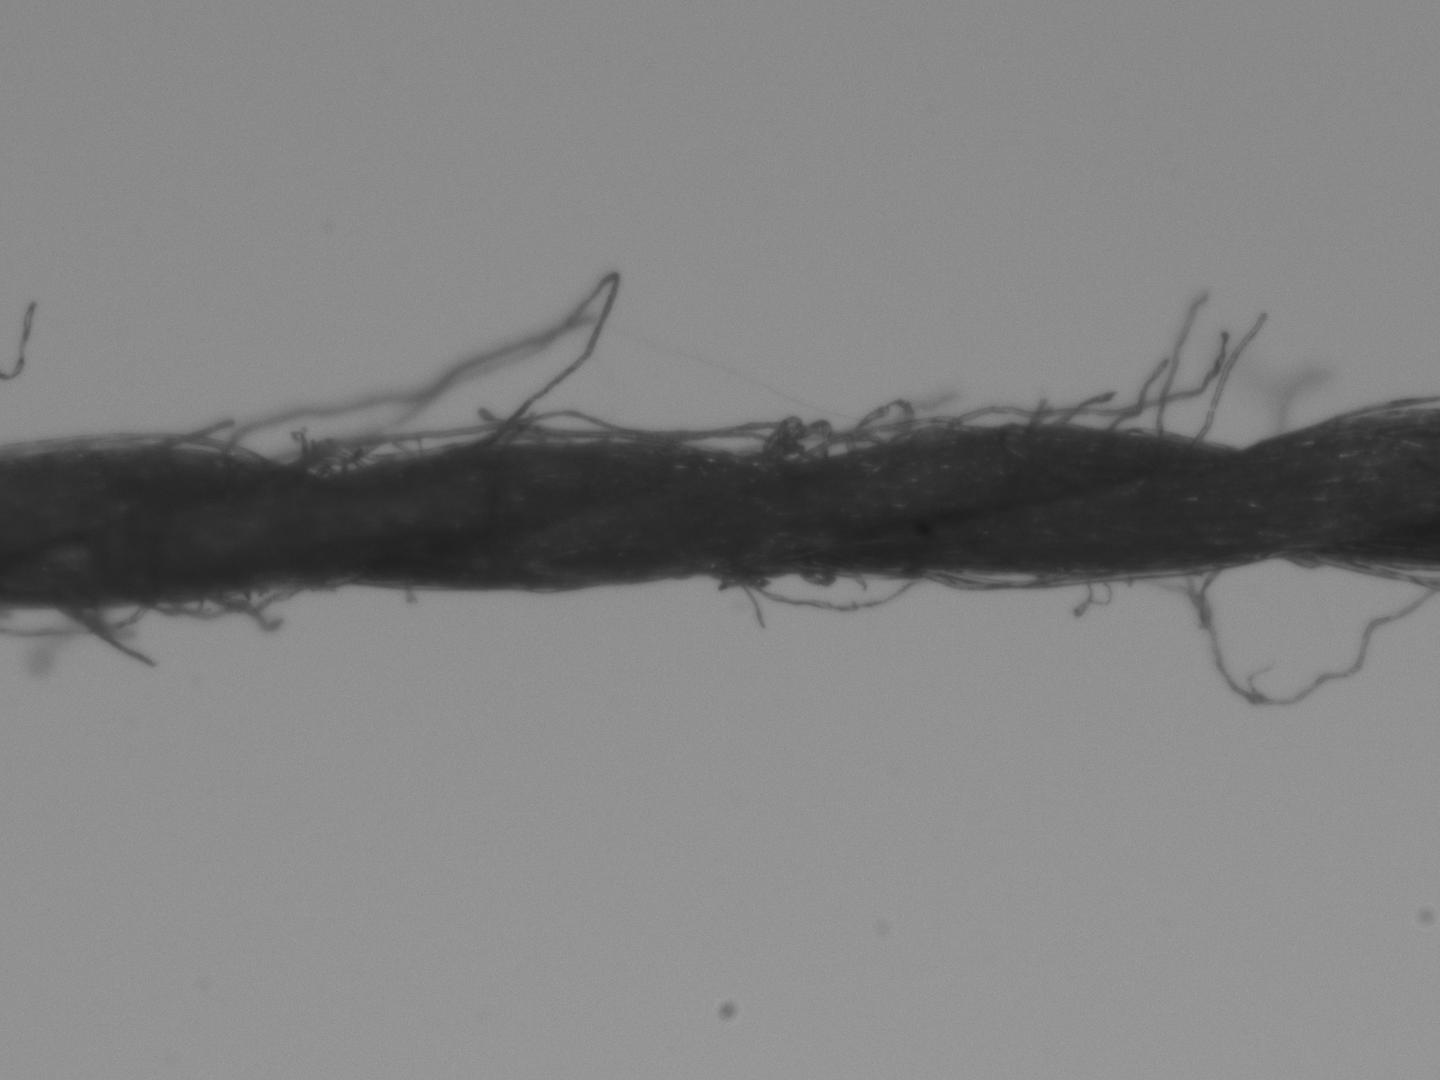loop_fiber: (1204, 563, 1429, 702), (286, 407, 649, 475), (9, 437, 270, 464), (745, 573, 913, 611), (149, 583, 298, 623), (922, 565, 1110, 591), (846, 397, 920, 459), (652, 431, 803, 461)
protruding_fiber: (1197, 313, 1271, 441), (1157, 292, 1210, 432), (54, 602, 155, 675), (1048, 389, 1116, 432)
